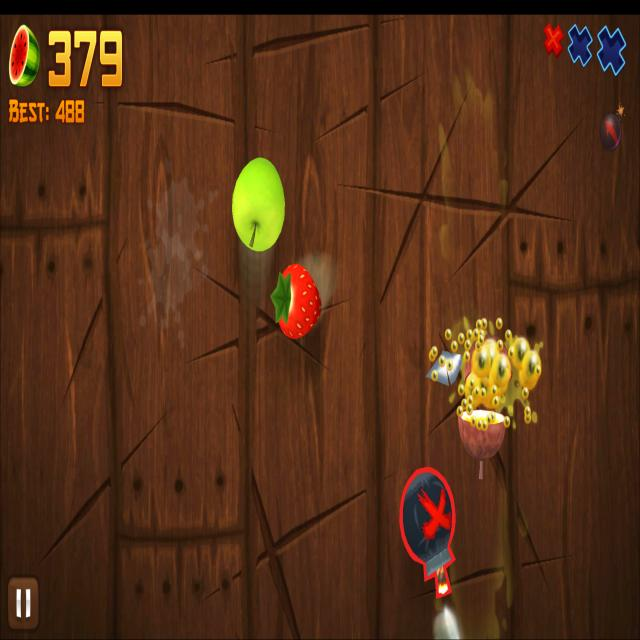bomb: (398, 464, 456, 599)
fruit: (232, 157, 286, 253), (274, 264, 323, 338)
